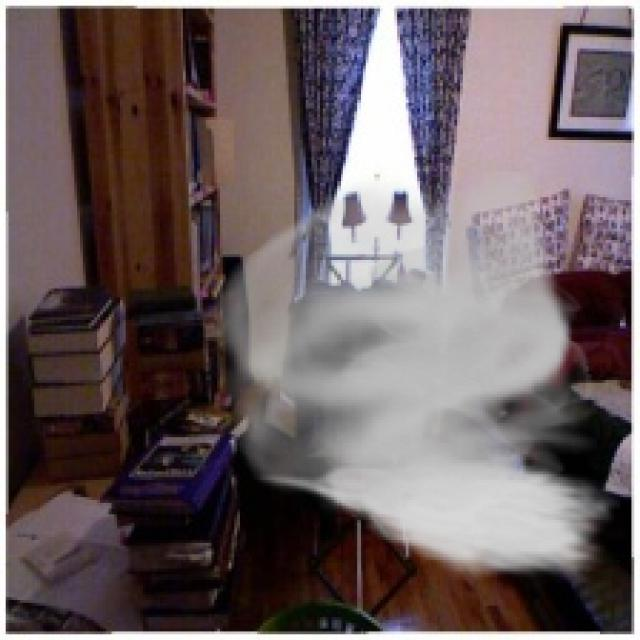smoke: (203, 168, 620, 583)
